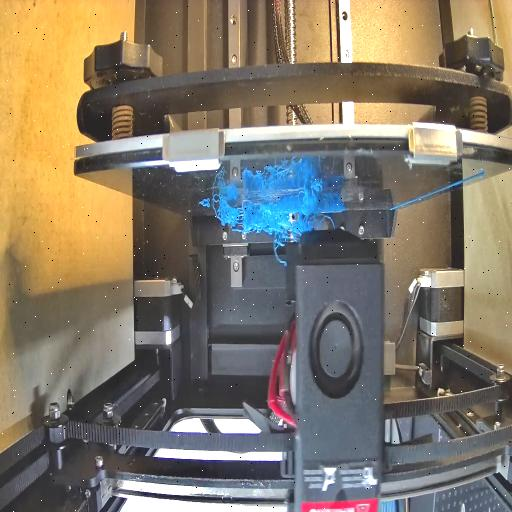spaghetti: (216, 201, 296, 241), (297, 180, 327, 230)
